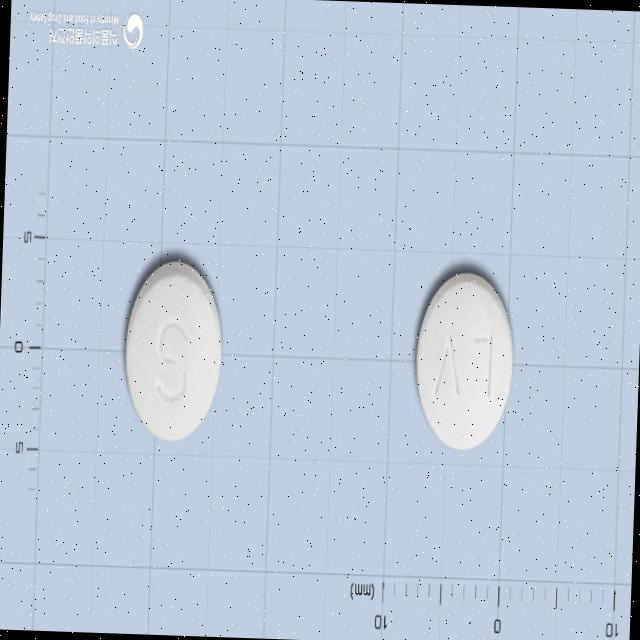Levobacter: (120, 259, 224, 446), (411, 270, 516, 454)
